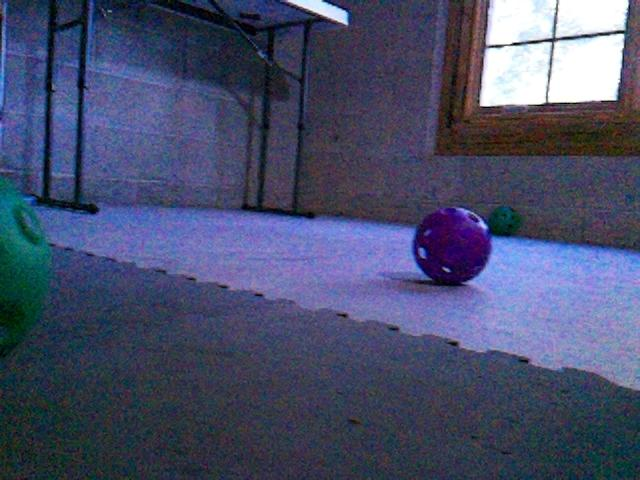Green: (0, 175, 54, 359), (488, 205, 522, 235)
Purple: (411, 206, 493, 285)
